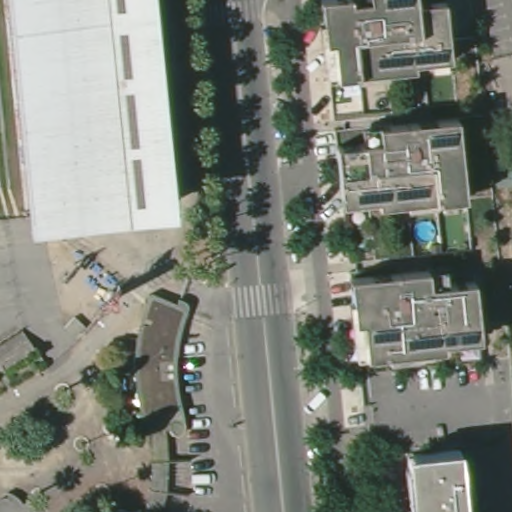pool: (409, 215, 443, 249)
